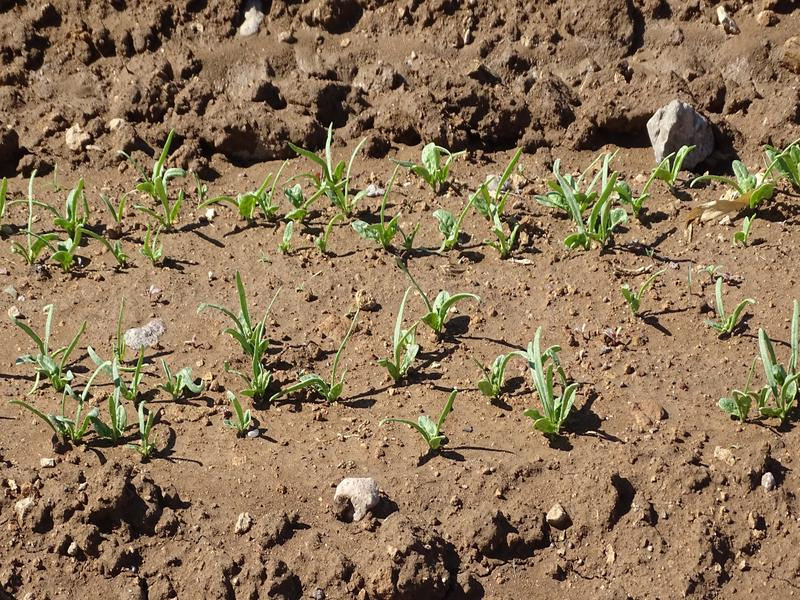Espinaca: (220, 129, 466, 254), (23, 304, 200, 452), (210, 278, 368, 415), (9, 150, 183, 265), (477, 144, 633, 248), (475, 334, 598, 437), (636, 141, 800, 215), (379, 271, 479, 362), (732, 292, 798, 419), (384, 388, 469, 459), (706, 283, 757, 334)
